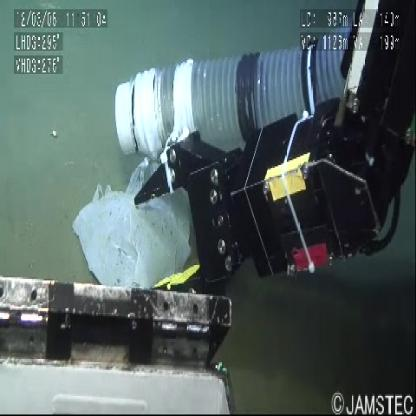Rov: (106, 6, 416, 291), (0, 266, 252, 416)
Rác: (69, 154, 194, 290)
